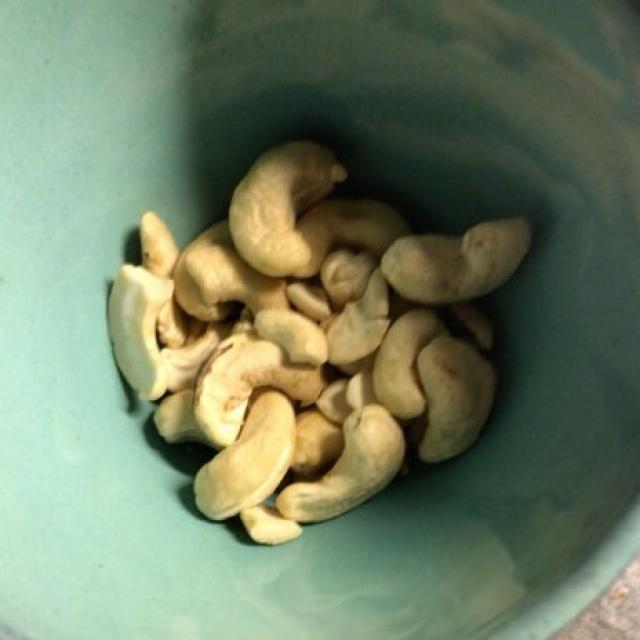cashew-nut: (114, 137, 528, 539)
